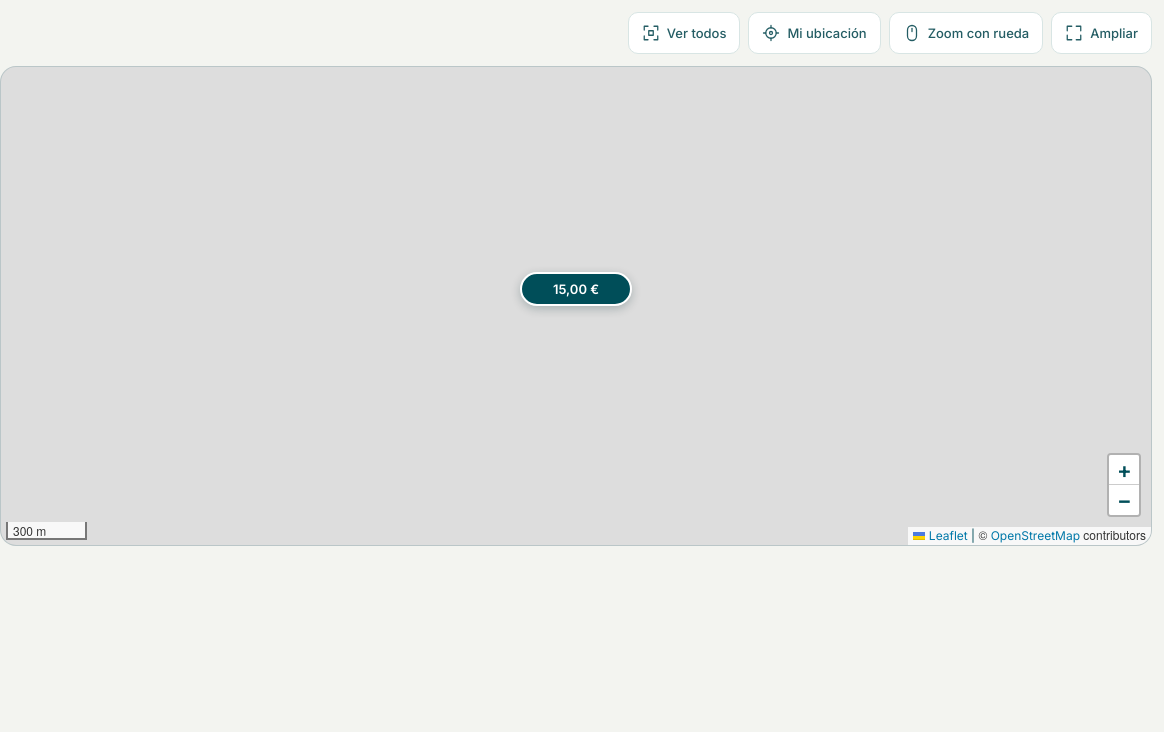
Test: Mapa interactivo › abre rutas solo para sedes exactas (aproximada: false)
Click the button with class "oona-map-marker". click: x=576, y=289
box: [520,272,632,306]
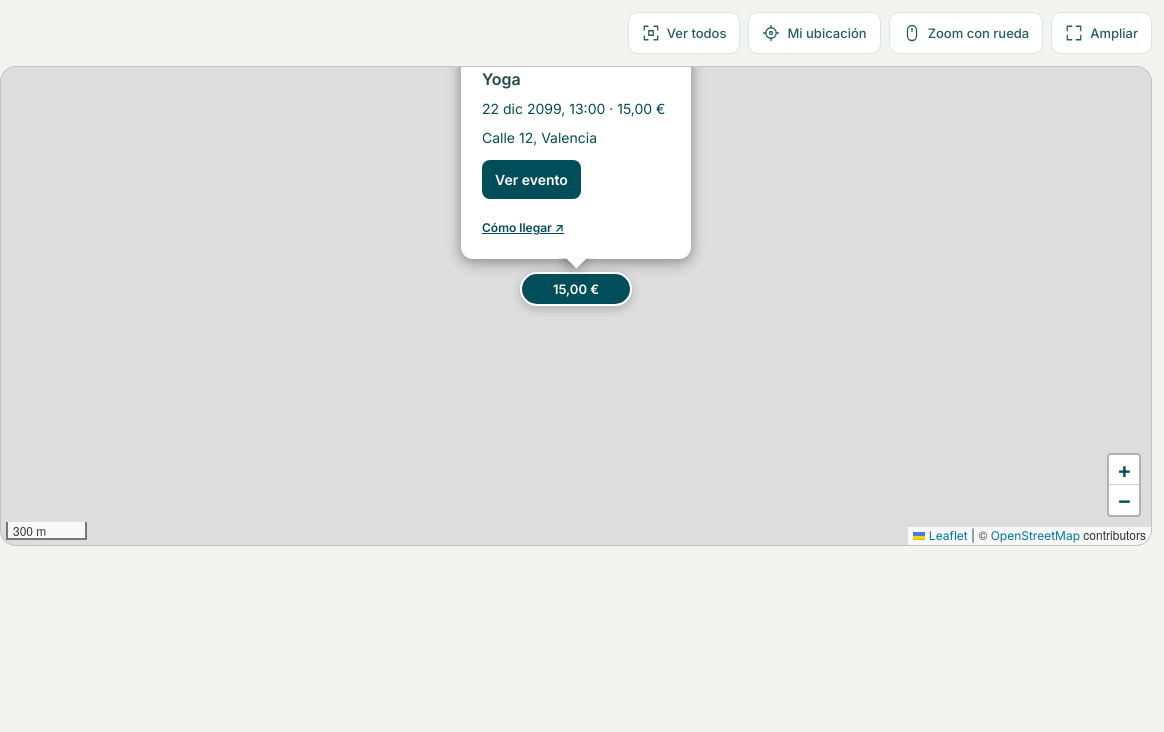
Check: the link with class "oona-map-external" shows "Cómo llegar", box [482,220,564,235]
